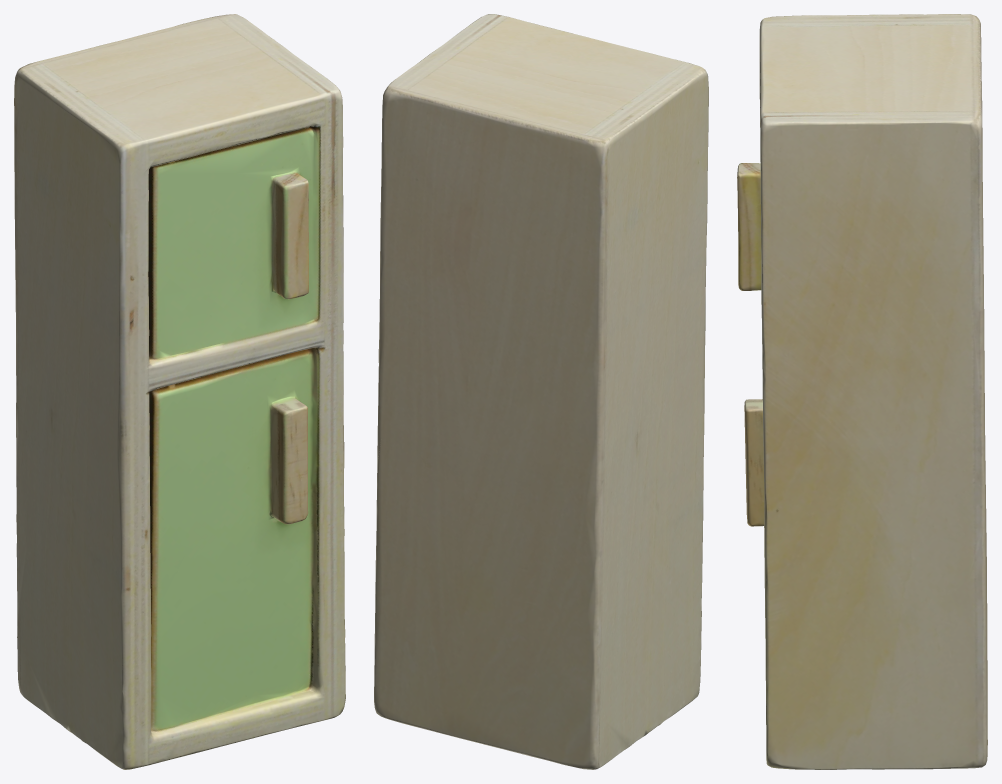
File: 3D_Dollhouse_Refrigerator.glb
The picture shows the model from 3 angles, left to right: view 1: azimuth 30°, elevation 25°; view 2: azimuth 150°, elevation 25°; view 3: azimuth 270°, elevation 25°; orthographic projection. The views are drawn at different scales.
Visible parts, largest first — view 1: 3D_Dollhouse_Refrigerator; view 2: 3D_Dollhouse_Refrigerator; view 3: 3D_Dollhouse_Refrigerator.
Boxes of the visible parts, x1,y1,x2,y2 form: 3D_Dollhouse_Refrigerator: (14, 14, 345, 769); 3D_Dollhouse_Refrigerator: (374, 14, 708, 769); 3D_Dollhouse_Refrigerator: (737, 14, 987, 769).
Size of the model in its own units: 0.0797 by 0.21 by 0.0735.
Materials: 1 (1 with a texture image).
